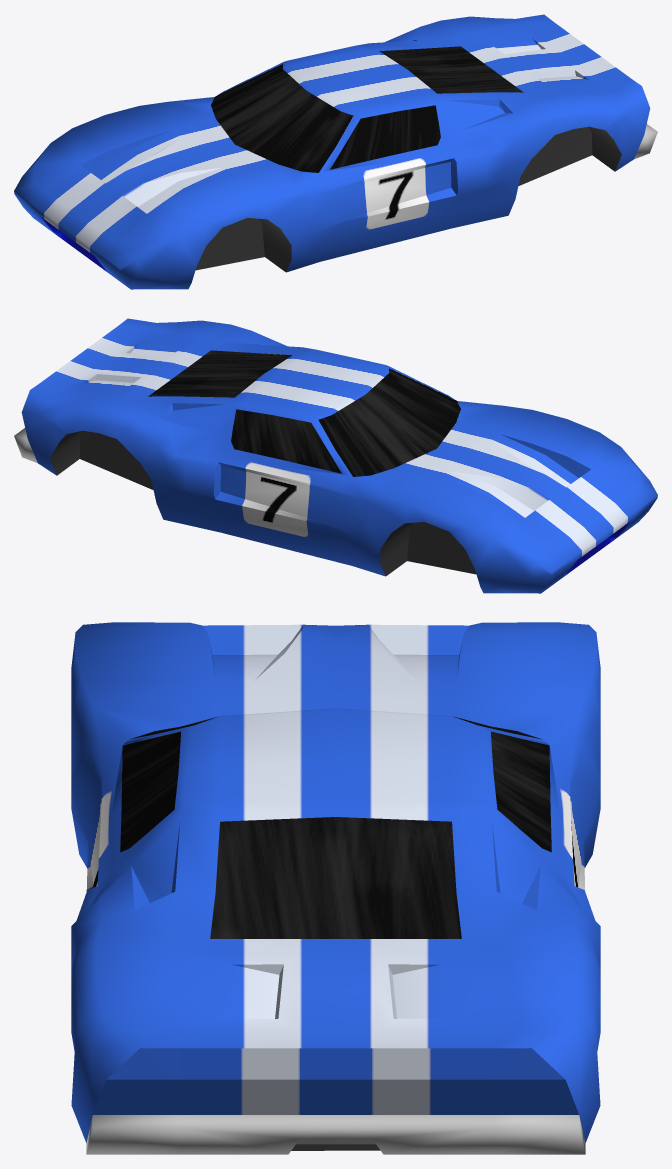
3 renders of one model, top to bottom at view 1: azimuth 30°, elevation 25°; view 2: azimuth 150°, elevation 25°; view 3: azimuth 270°, elevation 25°, orthographic. The views are drawn at different scales.
Visible parts, largest first — view 1: obj1, obj0; view 2: obj1, obj0; view 3: obj1, obj0.
Part boxes in pixels (bbox=[...]): obj1: bbox=[14, 14, 657, 289]; obj0: bbox=[195, 46, 621, 271]; obj1: bbox=[14, 318, 657, 593]; obj0: bbox=[50, 350, 476, 575]; obj1: bbox=[71, 622, 600, 1154]; obj0: bbox=[120, 716, 551, 1150].
Size of what is drawn, in the model's own units: 4.65 by 1.03 by 2.01.
2 materials, 2 textured.
